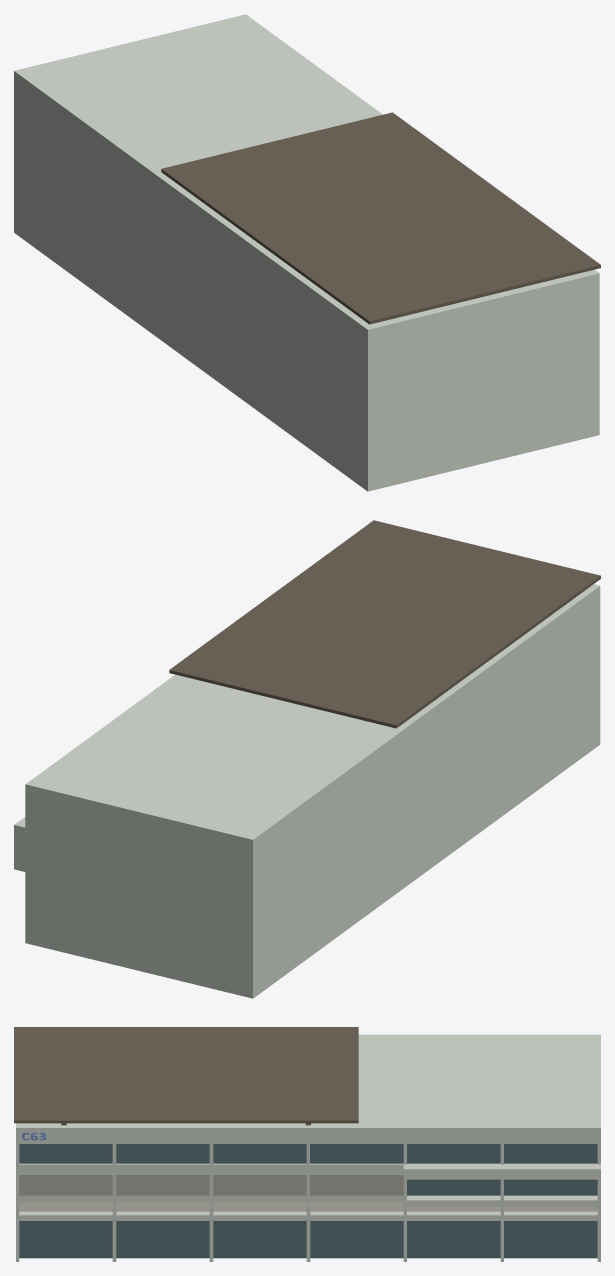
File: Building63.fbx
3 views of the same model, one above another, from view 1: azimuth 30°, elevation 25°; view 2: azimuth 150°, elevation 25°; view 3: azimuth 270°, elevation 25° (orthographic). The views are drawn at different scales.
Parts seen in each view (by area): view 1: 큐브.003, 큐브.002; view 2: 큐브.003, 큐브.002; view 3: 큐브.003, 큐브.002.
Boxes of the visible parts, x1,y1,x2,y2 form: 큐브.003: [14, 14, 599, 491]; 큐브.002: [161, 112, 600, 324]; 큐브.003: [14, 584, 600, 998]; 큐브.002: [169, 520, 600, 728]; 큐브.003: [16, 1034, 600, 1261]; 큐브.002: [14, 1027, 358, 1123].
Size of the model in its own units: 4200 by 2818 by 10602.
